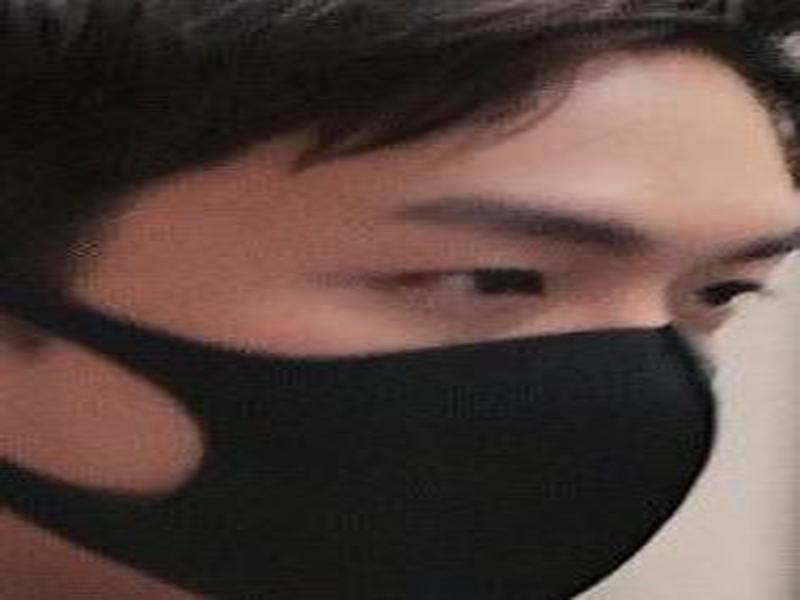with_mask: (1, 1, 797, 597)
